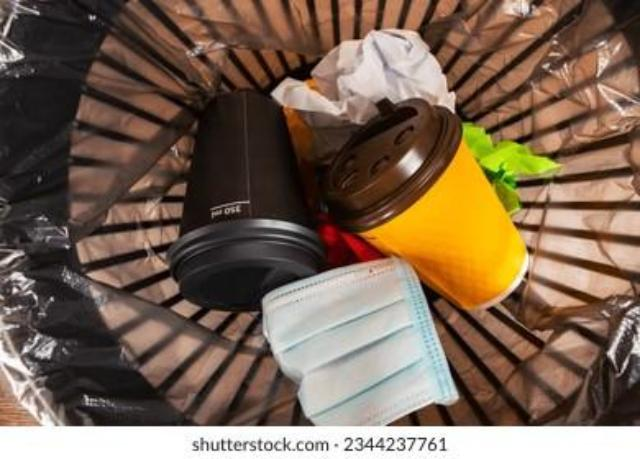Background: (69, 1, 640, 425)
Disposable: (263, 257, 457, 425)
Paper: (271, 30, 455, 158)
Plastic_bottle: (325, 99, 527, 309), (167, 92, 325, 309)
contaminated_waste: (165, 75, 535, 319)
top_view_waste: (150, 18, 581, 430)
